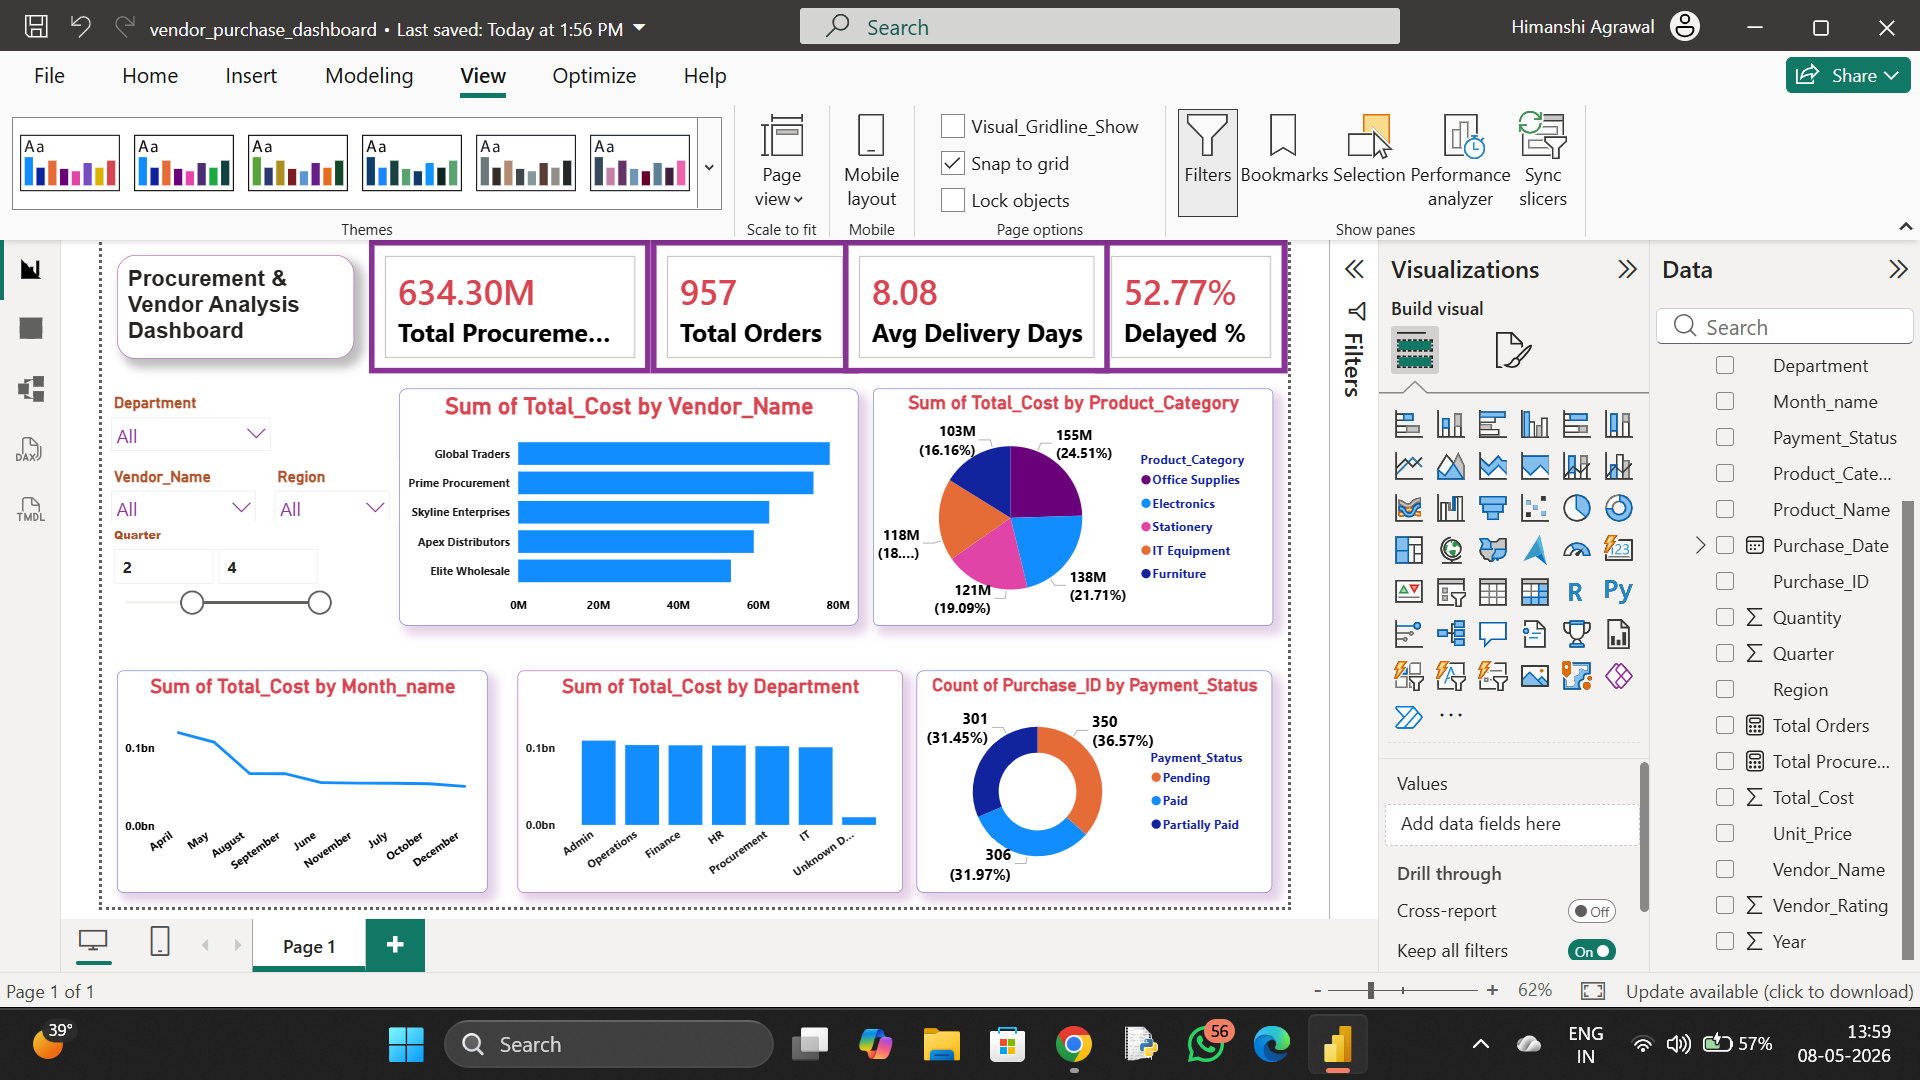

Layout of this report page (visuals, bound fields, positions):
{"tool":"powerbi","page":{"name":"Page 1","canvas":[1280,720],"ordinal":0},"visuals":[{"type":"cardVisual","fields":{"Data":["purchase_vendor_analysis purchase_data.Total Procurement Cost"]},"box":[288,0,304,144],"z":0},{"type":"cardVisual","fields":{"Data":["purchase_vendor_analysis purchase_data.Total Orders"]},"box":[592,0,224,144],"z":1000},{"type":"cardVisual","fields":{"Data":["purchase_vendor_analysis purchase_data.Delayed %"]},"box":[1072,0,208,144],"z":2000},{"type":"cardVisual","fields":{"Data":["purchase_vendor_analysis purchase_data.Avg Delivery Days"]},"box":[800,0,288,144],"z":3000},{"type":"clusteredBarChart","fields":{"Category":["purchase_vendor_analysis purchase_data.Vendor_Name"],"Y":["Sum(purchase_vendor_analysis purchase_data.Total_Cost)"]},"box":[320,160,496,256],"z":4000},{"type":"pieChart","fields":{"Category":["purchase_vendor_analysis purchase_data.Product_Category"],"Y":["Sum(purchase_vendor_analysis purchase_data.Total_Cost)"]},"box":[832,160,432,256],"z":5000},{"type":"lineChart","fields":{"Category":["purchase_vendor_analysis purchase_data.Month_name"],"Y":["Sum(purchase_vendor_analysis purchase_data.Total_Cost)"]},"box":[16,464,400,240],"z":6000},{"type":"donutChart","fields":{"Category":["purchase_vendor_analysis purchase_data.Payment_Status"],"Y":["CountNonNull(purchase_vendor_analysis purchase_data.Purchase_ID)"]},"box":[880,464,384,240],"z":7000},{"type":"clusteredColumnChart","fields":{"Category":["purchase_vendor_analysis purchase_data.Department"],"Y":["Sum(purchase_vendor_analysis purchase_data.Total_Cost)"]},"box":[448,464,416,240],"z":8000},{"type":"slicer","fields":{"Values":["purchase_vendor_analysis purchase_data.Region"]},"box":[160,240,144,64],"z":9000},{"type":"slicer","fields":{"Values":["purchase_vendor_analysis purchase_data.Department"]},"box":[0,160,192,80],"z":10000},{"type":"slicer","fields":{"Values":["purchase_vendor_analysis purchase_data.Quarter"]},"box":[0,304,256,112],"z":11000},{"type":"textbox","box":[16,16,256,112],"z":12000},{"type":"slicer","fields":{"Values":["purchase_vendor_analysis purchase_data.Vendor_Name"]},"box":[0,240,160,64],"z":12001}]}

Visuals, with their boxes on the page's 1280x720 design canvas (x1, y1, x2, y2). These are canvas units, not pixel positions in the 1920x1080 screenshot, which may show the page scaled, cropped or inside an application window:
cardVisual - purchase_vendor_analysis purchase_data.Total Procurement Cost: bbox=[288, 0, 592, 144]
cardVisual - purchase_vendor_analysis purchase_data.Total Orders: bbox=[592, 0, 816, 144]
cardVisual - purchase_vendor_analysis purchase_data.Delayed %: bbox=[1072, 0, 1280, 144]
cardVisual - purchase_vendor_analysis purchase_data.Avg Delivery Days: bbox=[800, 0, 1088, 144]
clusteredBarChart - purchase_vendor_analysis purchase_data.Vendor_Name x Sum(purchase_vendor_analysis purchase_data.Total_Cost): bbox=[320, 160, 816, 416]
pieChart - purchase_vendor_analysis purchase_data.Product_Category x Sum(purchase_vendor_analysis purchase_data.Total_Cost): bbox=[832, 160, 1264, 416]
lineChart - purchase_vendor_analysis purchase_data.Month_name x Sum(purchase_vendor_analysis purchase_data.Total_Cost): bbox=[16, 464, 416, 704]
donutChart - purchase_vendor_analysis purchase_data.Payment_Status x CountNonNull(purchase_vendor_analysis purchase_data.Purchase_ID): bbox=[880, 464, 1264, 704]
clusteredColumnChart - purchase_vendor_analysis purchase_data.Department x Sum(purchase_vendor_analysis purchase_data.Total_Cost): bbox=[448, 464, 864, 704]
slicer - purchase_vendor_analysis purchase_data.Region: bbox=[160, 240, 304, 304]
slicer - purchase_vendor_analysis purchase_data.Department: bbox=[0, 160, 192, 240]
slicer - purchase_vendor_analysis purchase_data.Quarter: bbox=[0, 304, 256, 416]
textbox: bbox=[16, 16, 272, 128]
slicer - purchase_vendor_analysis purchase_data.Vendor_Name: bbox=[0, 240, 160, 304]
